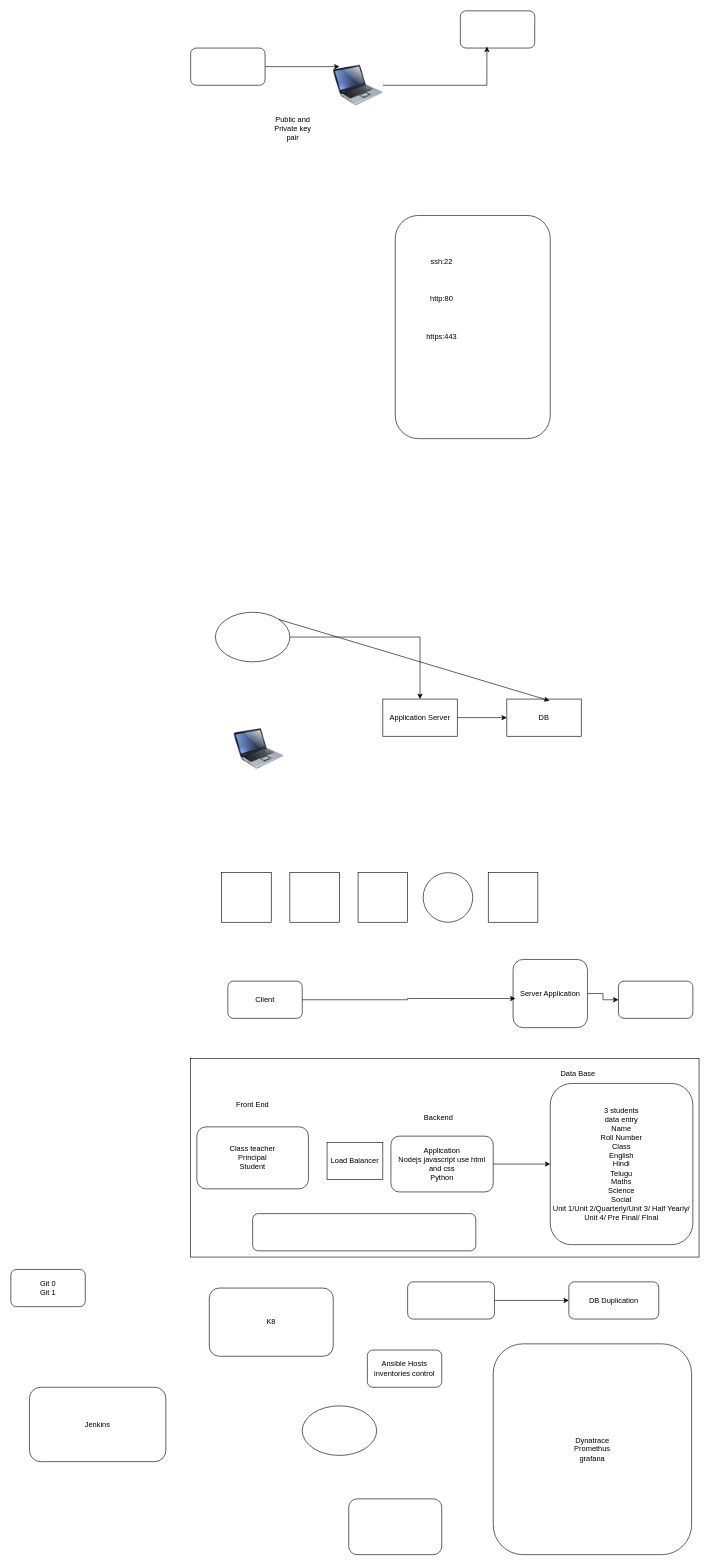
Image size: 710x1566. Some labels were removed from this diagram. The shapes that lost their labels are listed below. From the top down, each one's box as (x1, y1, x2, y2) in pixels, then its label:
(460, 10, 535, 48): Outbound
(190, 47, 265, 85): Inbound
(215, 612, 290, 662): github
(252, 1213, 476, 1251): SonarQube code vulnerabilities
(407, 1281, 494, 1319): App2 Duplication
(302, 1405, 377, 1455): Docker
(348, 1498, 442, 1555): Terraform
